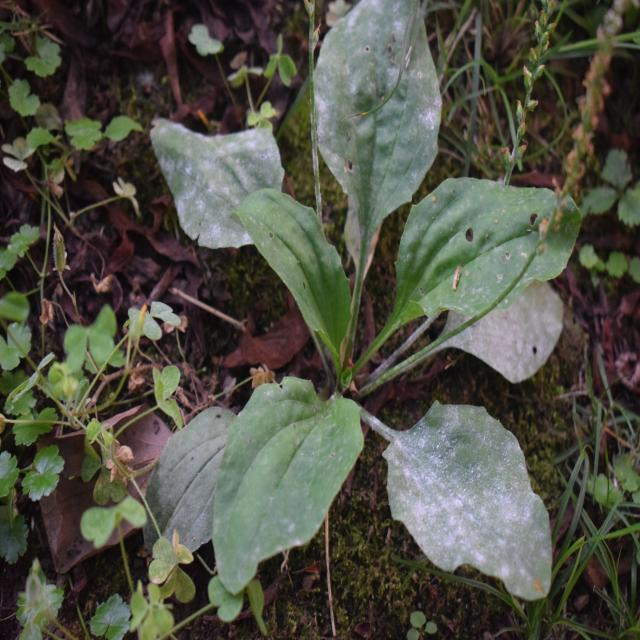plantain: (168, 29, 566, 571)
